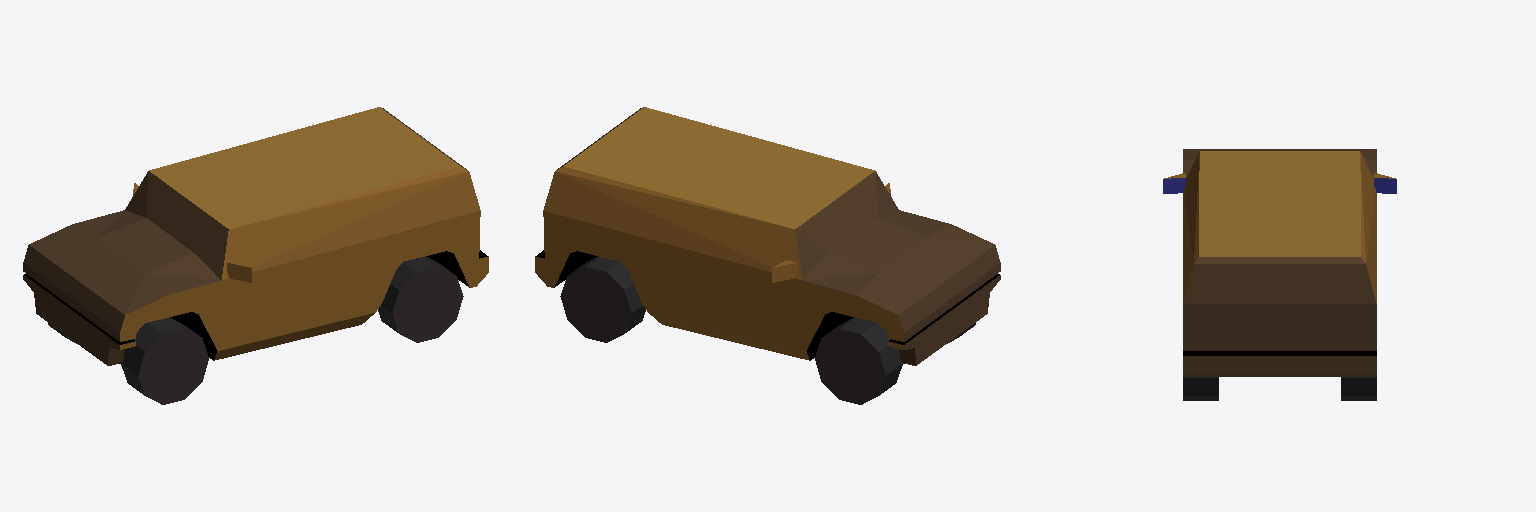
The model's file is hummer.obj.
3 renders of one model, left to right at view 1: azimuth 30°, elevation 25°; view 2: azimuth 150°, elevation 25°; view 3: azimuth 270°, elevation 25°, orthographic.
Visible parts, largest first — view 1: Mesh26 h1 G_3dHH_Hummer_H2_1 Low_Poly_Hummer_v2__3cm_px_photores, Mesh52 h2 G_3dHH_Hummer_H2_1 Low_Poly_Hummer_v2__3cm_px_photores, Mesh12 r1 h1 G_3dHH_Hummer_H2_1 Low_Poly_Hummer_v2__3cm_px_photo, Mesh24 r2 h1 G_3dHH_Hummer_H2_1 Low_Poly_Hummer_v2__3cm_px_photo; view 2: Mesh52 h2 G_3dHH_Hummer_H2_1 Low_Poly_Hummer_v2__3cm_px_photores, Mesh26 h1 G_3dHH_Hummer_H2_1 Low_Poly_Hummer_v2__3cm_px_photores, Mesh38 r3 h2 G_3dHH_Hummer_H2_1 Low_Poly_Hummer_v2__3cm_px_photo, Mesh50 r4 h2 G_3dHH_Hummer_H2_1 Low_Poly_Hummer_v2__3cm_px_photo; view 3: Mesh26 h1 G_3dHH_Hummer_H2_1 Low_Poly_Hummer_v2__3cm_px_photores, Mesh52 h2 G_3dHH_Hummer_H2_1 Low_Poly_Hummer_v2__3cm_px_photores, Mesh7 p6 r1 h1 G_3dHH_Hummer_H2_1 Low_Poly_Hummer_v2__3cm_px_pho, Mesh33 p26 r3 h2 G_3dHH_Hummer_H2_1 Low_Poly_Hummer_v2__3cm_px_p.
Boxes of the visible parts, x1=… form: Mesh26 h1 G_3dHH_Hummer_H2_1 Low_Poly_Hummer_v2__3cm_px_photores: x1=72, y1=137, x2=488, y2=365; Mesh52 h2 G_3dHH_Hummer_H2_1 Low_Poly_Hummer_v2__3cm_px_photores: x1=23, y1=107, x2=424, y2=339; Mesh12 r1 h1 G_3dHH_Hummer_H2_1 Low_Poly_Hummer_v2__3cm_px_photo: x1=392, y1=267, x2=463, y2=342; Mesh24 r2 h1 G_3dHH_Hummer_H2_1 Low_Poly_Hummer_v2__3cm_px_photo: x1=138, y1=329, x2=208, y2=404; Mesh52 h2 G_3dHH_Hummer_H2_1 Low_Poly_Hummer_v2__3cm_px_photores: x1=535, y1=137, x2=951, y2=365; Mesh26 h1 G_3dHH_Hummer_H2_1 Low_Poly_Hummer_v2__3cm_px_photores: x1=599, y1=107, x2=1000, y2=339; Mesh38 r3 h2 G_3dHH_Hummer_H2_1 Low_Poly_Hummer_v2__3cm_px_photo: x1=560, y1=267, x2=631, y2=342; Mesh50 r4 h2 G_3dHH_Hummer_H2_1 Low_Poly_Hummer_v2__3cm_px_photo: x1=815, y1=329, x2=885, y2=404; Mesh26 h1 G_3dHH_Hummer_H2_1 Low_Poly_Hummer_v2__3cm_px_photores: x1=1183, y1=149, x2=1279, y2=376; Mesh52 h2 G_3dHH_Hummer_H2_1 Low_Poly_Hummer_v2__3cm_px_photores: x1=1280, y1=149, x2=1376, y2=376; Mesh7 p6 r1 h1 G_3dHH_Hummer_H2_1 Low_Poly_Hummer_v2__3cm_px_pho: x1=1183, y1=378, x2=1218, y2=395; Mesh33 p26 r3 h2 G_3dHH_Hummer_H2_1 Low_Poly_Hummer_v2__3cm_px_p: x1=1341, y1=378, x2=1376, y2=395.
Bounding box in the file's own units: 5.87 × 2.41 × 3.24.